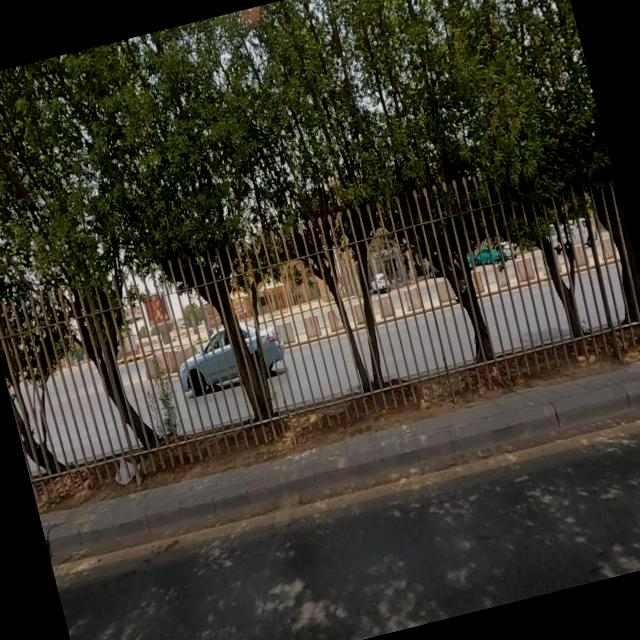debris: (75, 429, 174, 524)
